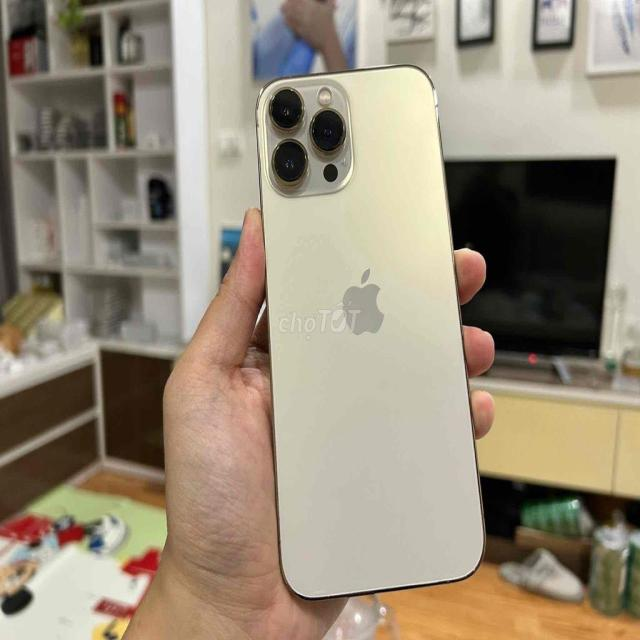gen_12_13: (253, 61, 489, 604)
